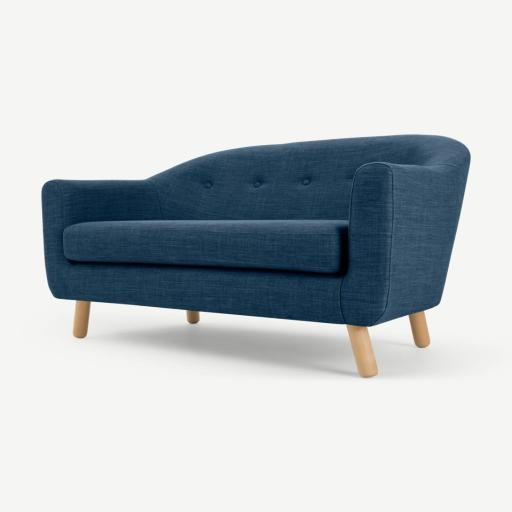back_cushion: (144, 136, 441, 220)
base: (56, 263, 344, 323)
left_arm: (341, 162, 467, 325)
legs: (347, 325, 377, 377), (409, 312, 430, 347), (73, 301, 91, 338), (187, 310, 199, 323)
one-seater: (42, 135, 470, 377)
right_arm: (42, 180, 160, 298)
seat_cushion: (64, 220, 348, 274)
